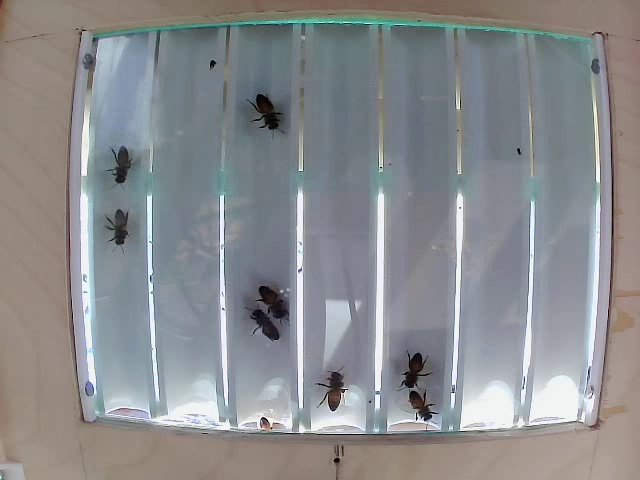bee: (247, 77, 285, 137), (389, 343, 435, 383), (104, 195, 140, 242), (105, 145, 145, 185), (248, 301, 284, 345), (319, 367, 352, 415), (265, 272, 301, 310), (397, 387, 437, 420)
